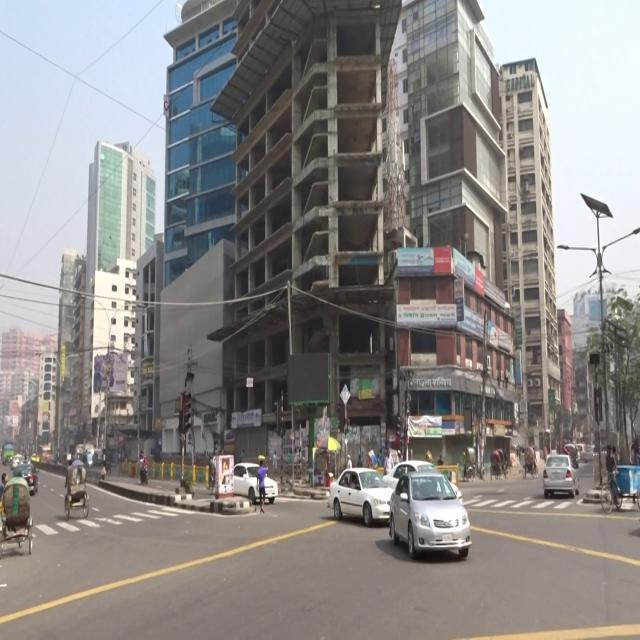silver: (390, 473, 472, 563), (540, 446, 579, 500)
